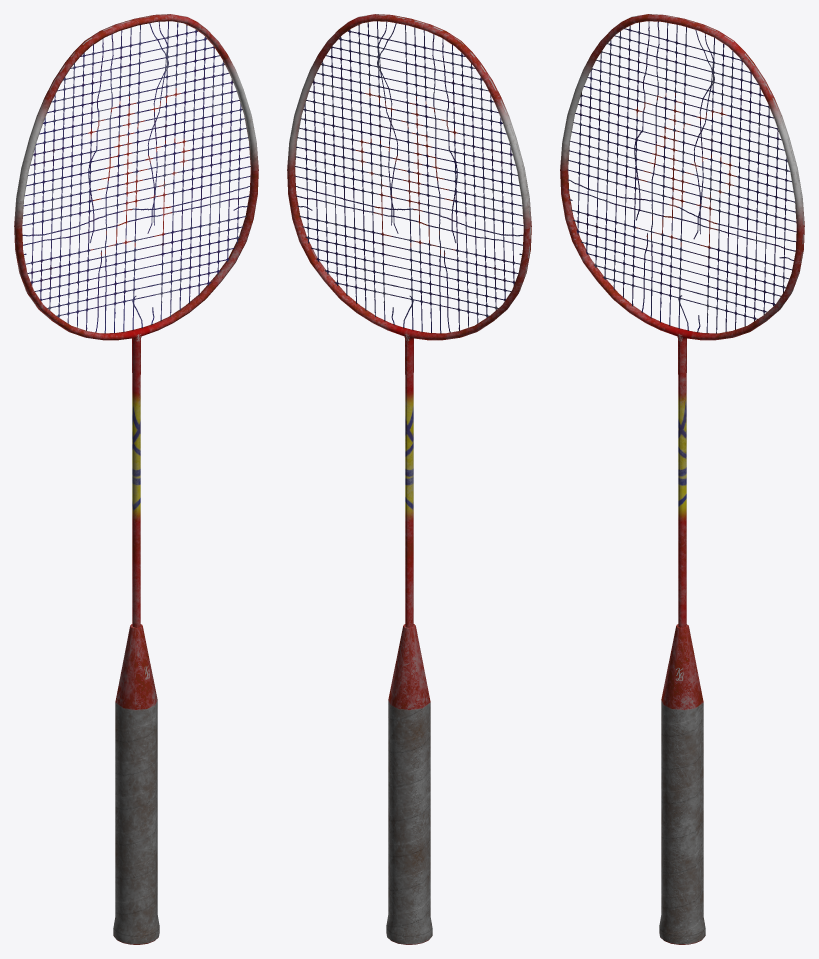
File: RacquetBadminton.fbx
3 renders of one model, left to right at view 1: azimuth 30°, elevation 25°; view 2: azimuth 150°, elevation 25°; view 3: azimuth 330°, elevation 25°, orthographic.
Parts seen in each view (by area): view 1: RACQUET; view 2: RACQUET; view 3: RACQUET.
Part boxes in pixels (x1=…): RACQUET: x1=14, y1=14, x2=258, y2=944; RACQUET: x1=287, y1=14, x2=531, y2=944; RACQUET: x1=560, y1=14, x2=804, y2=944.
Size of the model in its own units: 24.1 by 86.88 by 3.98.
